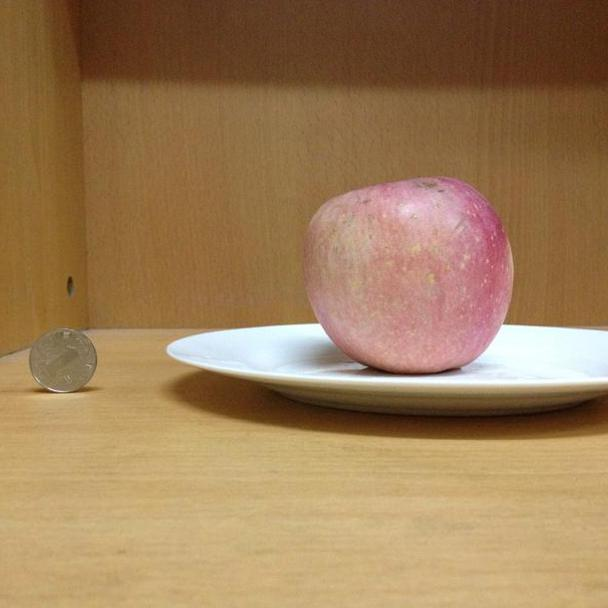apple: (300, 177, 513, 375)
